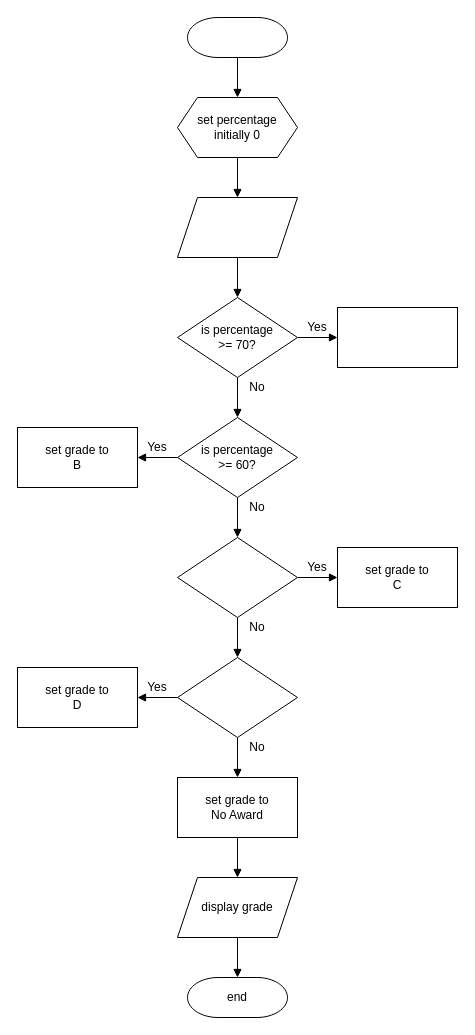
This 475x1035 diagram has some shape labels left out. Here are the shapes that lost their labels. From the top down, the centre of each, then its label:
At point (237, 37): "start".
At point (237, 227): "get percentage from keyboard".
At point (397, 337): "set grade to A".
At point (237, 577): "is percentage >= 50?".
At point (237, 697): "is percentage >= 40?".
